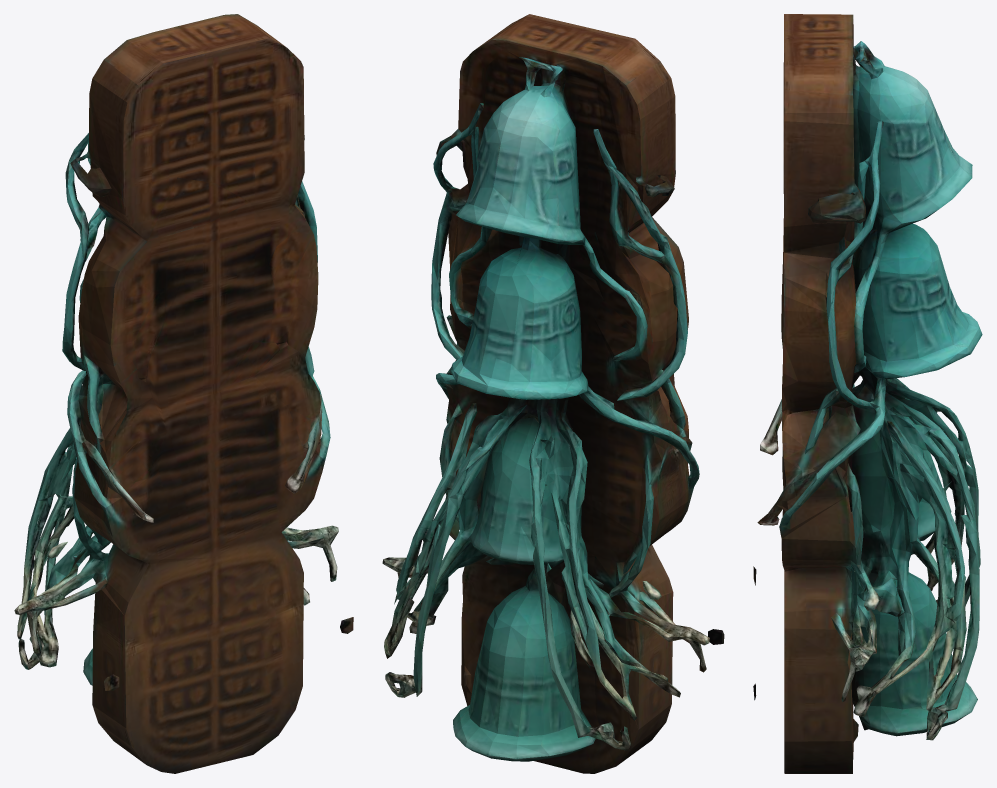
Rendered from lanternJelly.glb.
3 renders of one model, left to right at view 1: azimuth 30°, elevation 25°; view 2: azimuth 150°, elevation 25°; view 3: azimuth 270°, elevation 25°, orthographic.
Visible parts, largest first — view 1: world; view 2: world; view 3: world.
Part boxes in pixels (x1,y1,x2,y2): world: (14, 14, 353, 773); world: (382, 14, 724, 773); world: (753, 14, 982, 773).
Size of the model in its own units: 0.4758 by 0.9994 by 0.2897.
Materials: 1 (1 with a texture image).
